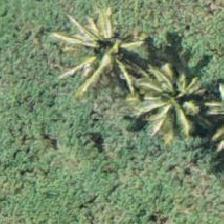coconut_tree: (118, 29, 208, 119), (53, 0, 143, 89)
